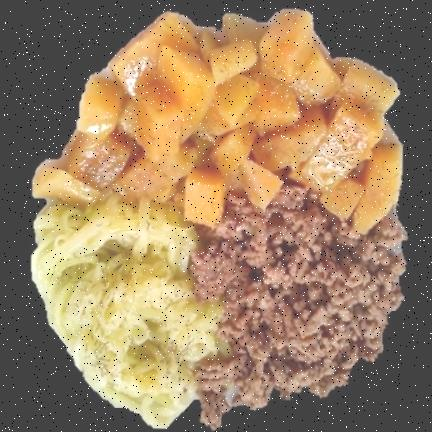meat: (190, 181, 405, 427)
pasta: (31, 196, 226, 427)
